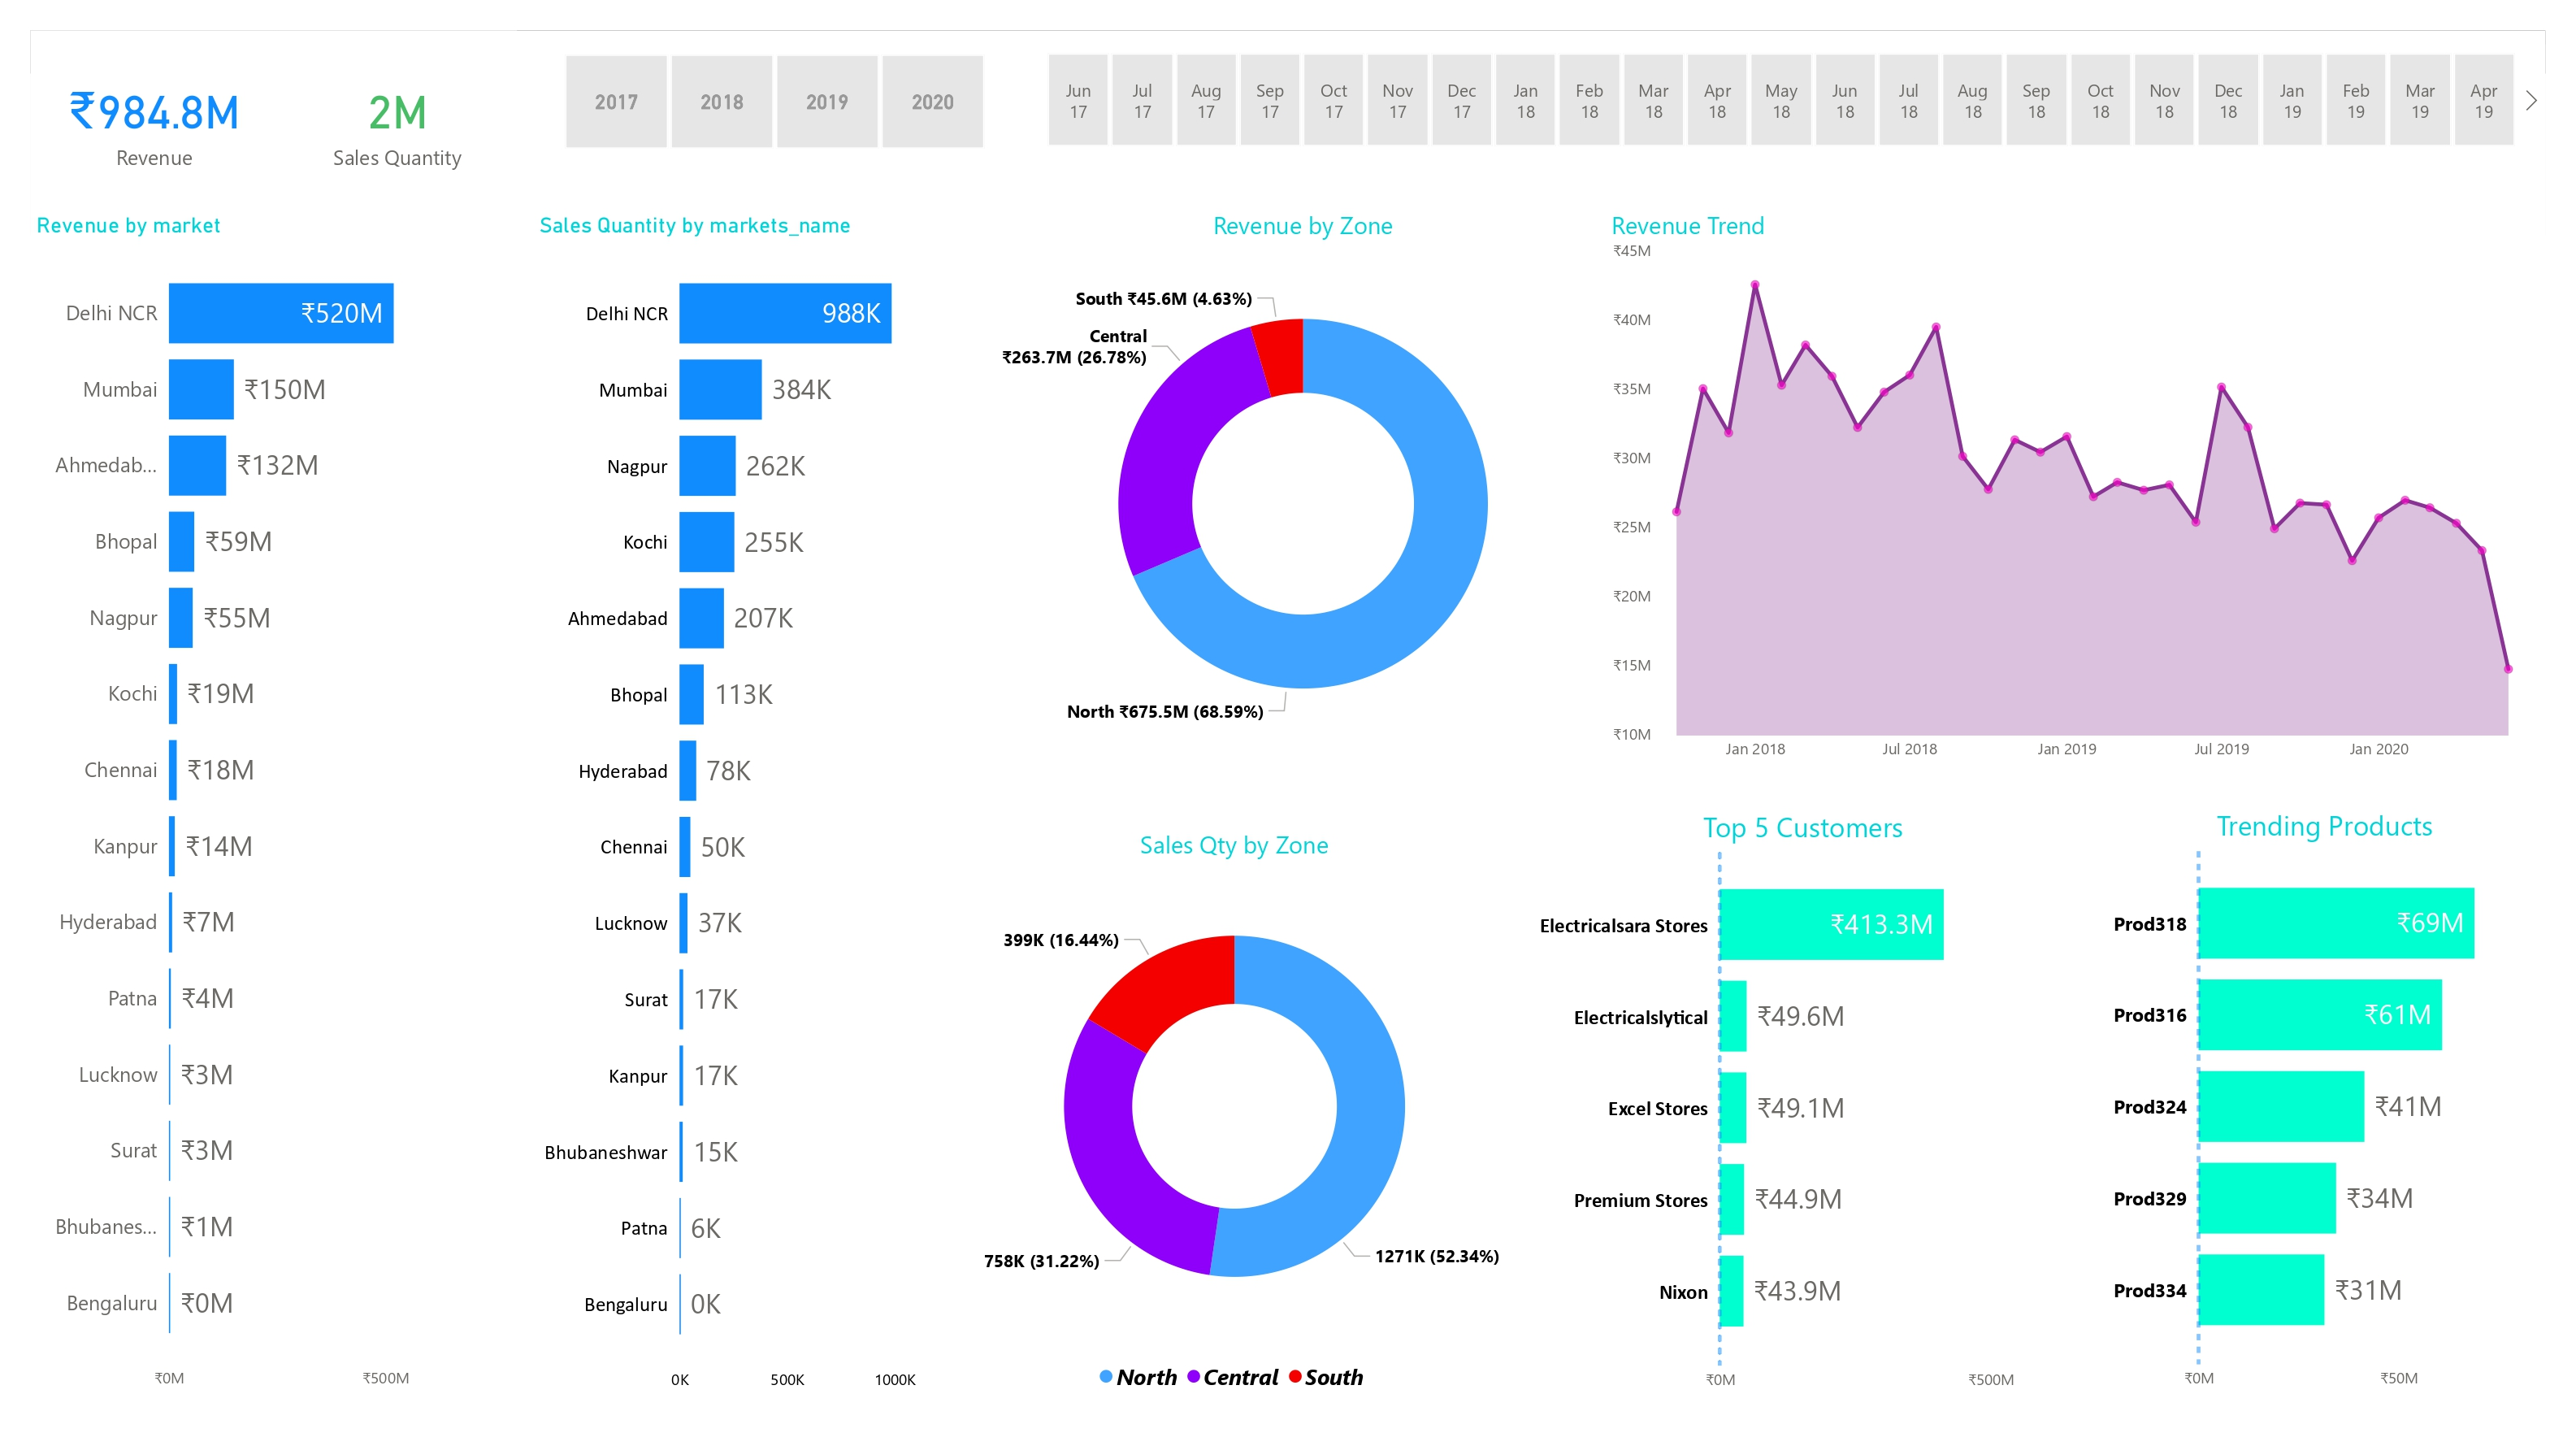

What the dashboard file says about the page in this screenshot:
{"tool":"powerbi","page":{"name":"Key Insights","canvas":[1980,1080],"ordinal":0},"visuals":[{"type":"card","fields":{"Values":["Base Measures.Revenue"]},"box":[0,0,195.2,143.2],"z":0},{"type":"card","fields":{"Values":["Base Measures.Sales Quantity"]},"box":[195,0,188.3,143.3],"z":1000},{"type":"barChart","title":"Revenue by market","fields":{"Category":["sales markets.markets_name"],"Y":["Base Measures.Revenue"]},"box":[0,142.6,383.2,936.8],"z":2000},{"type":"barChart","fields":{"Y":["Base Measures.Sales Quantity"],"Category":["sales markets.markets_name"]},"box":[395.7,142.9,348.6,937.1],"z":3000},{"type":"slicer","fields":{"Values":["sales date.year"]},"box":[395,11.7,380,88.3],"z":4000},{"type":"slicer","fields":{"Values":["sales date.cy_date"]},"box":[775,10.6,1205,87.3],"z":5000},{"type":"donutChart","title":"Revenue by Zone","fields":{"Category":["sales markets.zone"],"Y":["Base Measures.Revenue"]},"box":[744,140,516,446],"z":6000},{"type":"barChart","title":"Top 5 Customers","fields":{"Category":["sales customers.custmer_name"],"Y":["Base Measures.Revenue"]},"box":[1182,612,428,468],"z":7000},{"type":"lineChart","title":"Revenue Trend","fields":{"Y":["Base Measures.Revenue"],"Category":["sales date.cy_date"]},"box":[1240,140,740,444],"z":8000},{"type":"barChart","title":"Trending Products","fields":{"Category":["sales transactions.product_code"],"Y":["Base Measures.Revenue"]},"box":[1633,611,347,468.4],"z":9000},{"type":"donutChart","title":"Sales Qty by Zone","fields":{"Category":["sales markets.zone"],"Y":["Base Measures.Sales Quantity"]},"box":[714,628,468,452],"z":10000}]}

Visuals, with their boxes on the page's 1980x1080 design canvas (x1, y1, x2, y2). These are canvas units, not pixel positions in the 2576x1433 screenshot, which may show the page scaled, cropped or inside an application window:
card - Base Measures.Revenue: bbox(0, 0, 195, 143)
card - Base Measures.Sales Quantity: bbox(195, 0, 383, 143)
"Revenue by market" barChart: bbox(0, 143, 383, 1079)
barChart - Base Measures.Sales Quantity x sales markets.markets_name: bbox(396, 143, 744, 1080)
slicer - sales date.year: bbox(395, 12, 775, 100)
slicer - sales date.cy_date: bbox(775, 11, 1980, 98)
"Revenue by Zone" donutChart: bbox(744, 140, 1260, 586)
"Top 5 Customers" barChart: bbox(1182, 612, 1610, 1080)
"Revenue Trend" lineChart: bbox(1240, 140, 1980, 584)
"Trending Products" barChart: bbox(1633, 611, 1980, 1079)
"Sales Qty by Zone" donutChart: bbox(714, 628, 1182, 1080)
